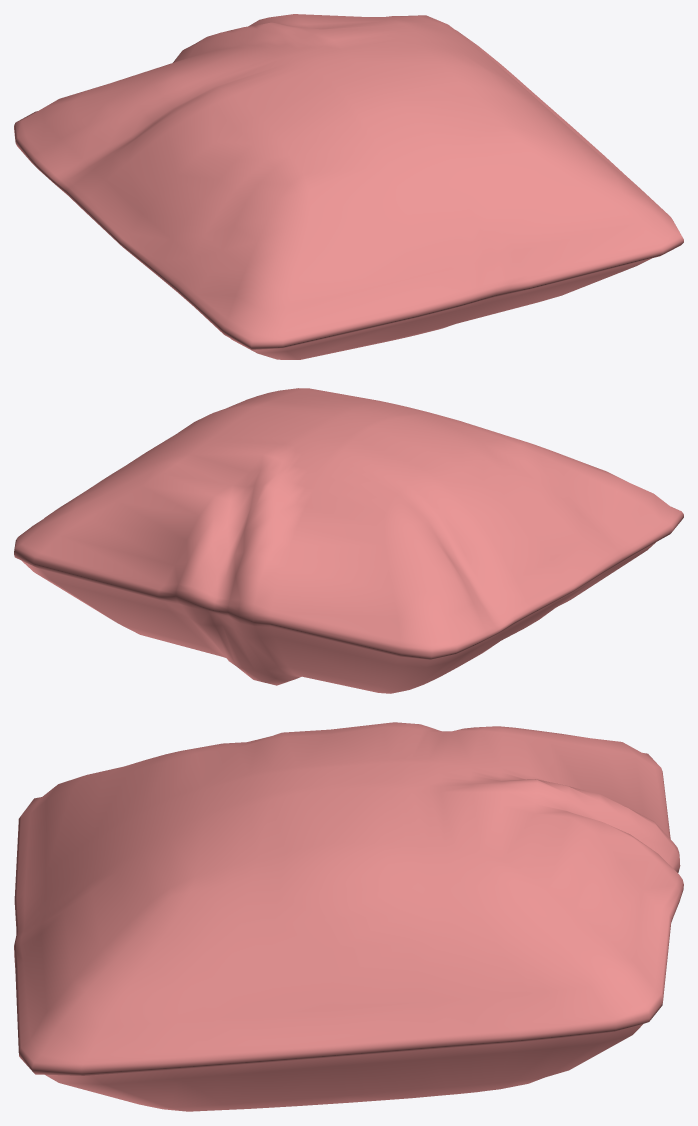
Rendered from PillowMineHipTrow.fbx.
3 views of the same model, one above another, from view 1: azimuth 30°, elevation 25°; view 2: azimuth 150°, elevation 25°; view 3: azimuth 270°, elevation 25° (orthographic). The views are drawn at different scales.
Visible parts, largest first — view 1: Group15793; view 2: Group15793; view 3: Group15793.
Part boxes in pixels (x1=…): Group15793: x1=14, y1=14, x2=683, y2=359; Group15793: x1=14, y1=388, x2=683, y2=693; Group15793: x1=14, y1=722, x2=683, y2=1111.
Size of the model in its own units: 27.07 by 12.35 by 27.4.
